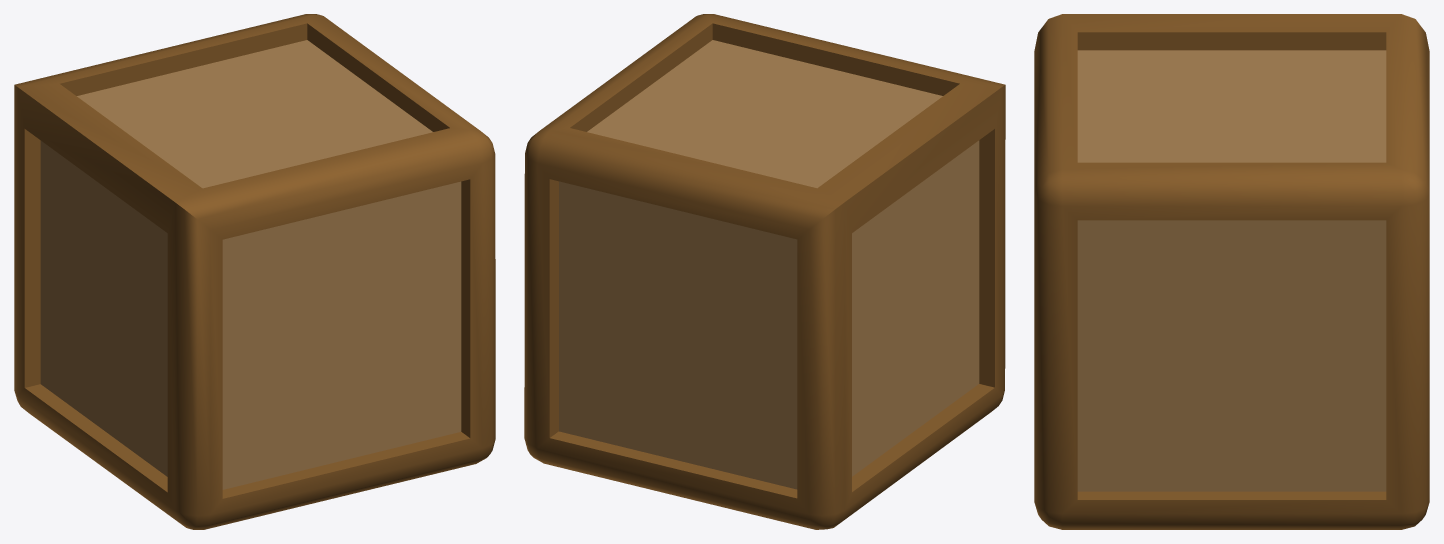
The picture shows the model from 3 angles, left to right: view 1: azimuth 30°, elevation 25°; view 2: azimuth 150°, elevation 25°; view 3: azimuth 270°, elevation 25°; orthographic projection. The views are drawn at different scales.
Visible parts, largest first — view 1: Box_6; view 2: Box_6; view 3: Box_6.
Boxes of the visible parts, x1=… form: Box_6: x1=14, y1=14, x2=495, y2=529; Box_6: x1=524, y1=14, x2=1005, y2=529; Box_6: x1=1034, y1=14, x2=1429, y2=529.
Size of the model in its own units: 0.3784 by 0.3784 by 0.3784.
